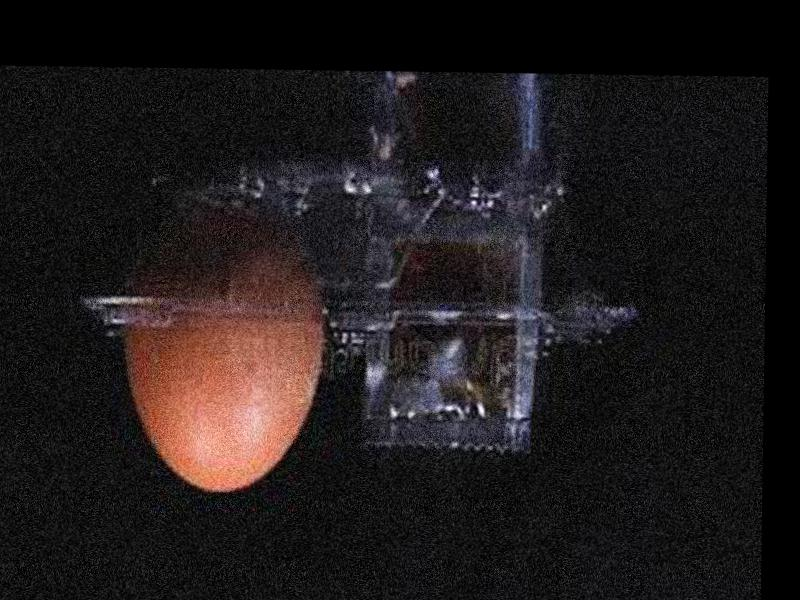Eggs: (118, 194, 323, 492)
